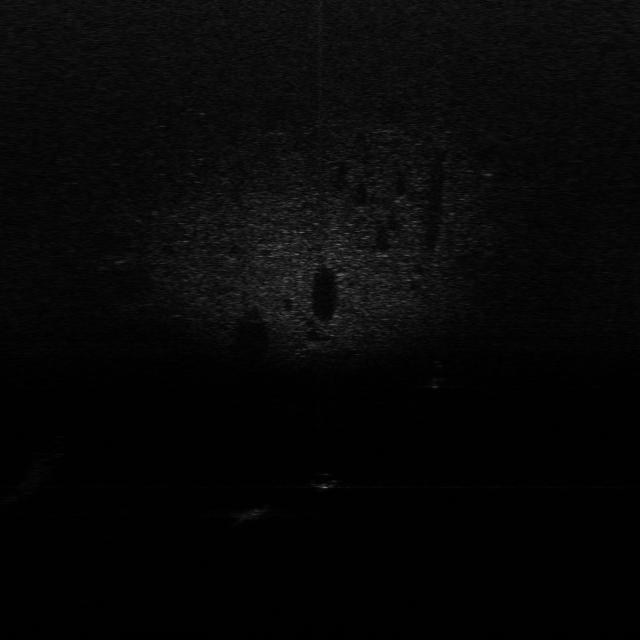ball: (307, 467, 341, 491)
square cage: (233, 500, 274, 526)
tyre: (423, 358, 452, 391)
